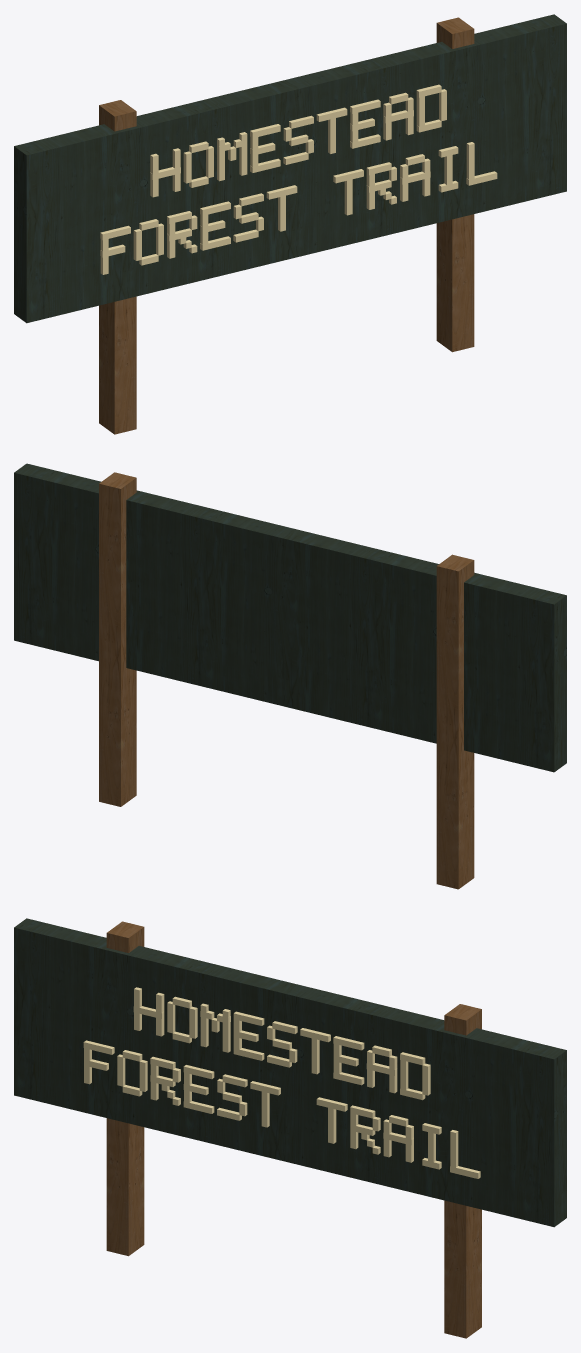
The model's file is woodsign.glb.
3 renders of one model, top to bottom at view 1: azimuth 30°, elevation 25°; view 2: azimuth 150°, elevation 25°; view 3: azimuth 330°, elevation 25°, orthographic.
Parts seen in each view (by area): view 1: Homestead trail sign; view 2: Homestead trail sign; view 3: Homestead trail sign.
Part boxes in pixels (box(x1,y1,x2,y2)): Homestead trail sign: box(14, 14, 566, 434); Homestead trail sign: box(14, 463, 566, 889); Homestead trail sign: box(14, 918, 566, 1338).
Size of the model in its own units: 3.2 by 1.8 by 0.217.
Materials: 3 (2 with a texture image).
